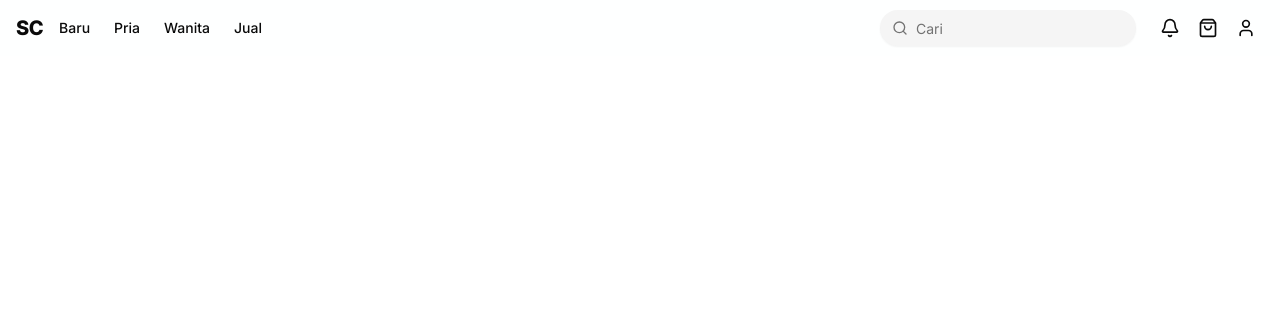
Scenario: SiteHeader › opens the account menu when signed in
Step 1. Click the button named "Akun" → (1246, 28), box [1228, 10, 1264, 46]
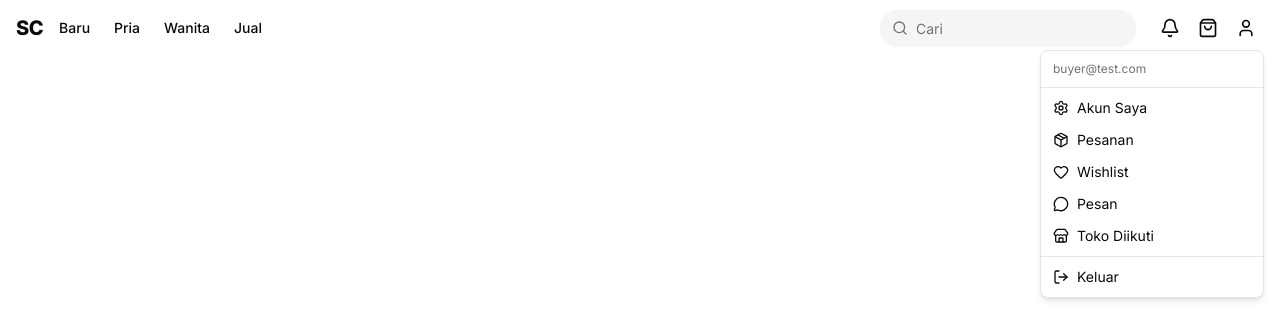
Expected: the text "buyer@test.com" is shown, [1053, 61, 1146, 76]
Expected: the menu item "Pesanan" is shown, [1053, 131, 1134, 148]
Expected: the menu item "Keluar" is shown, [1053, 268, 1119, 285]
